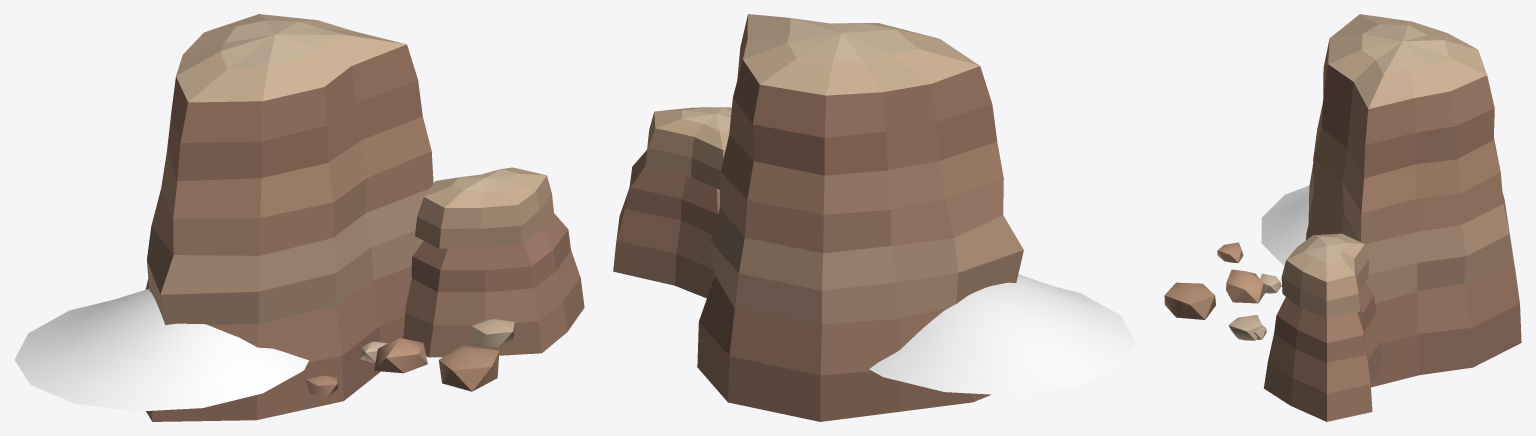
Rendered from roca_canon_c.glb.
3 renders of one model, left to right at view 1: azimuth 30°, elevation 25°; view 2: azimuth 150°, elevation 25°; view 3: azimuth 270°, elevation 25°, orthographic. The views are drawn at different scales.
Visible parts, largest first — view 1: roca_canon_c, roca_canon_c_arena; view 2: roca_canon_c, roca_canon_c_arena; view 3: roca_canon_c, roca_canon_c_arena.
Part boxes in pixels (box(x1,y1,x2,y2)): roca_canon_c: box(145, 14, 584, 421); roca_canon_c_arena: box(14, 289, 308, 411); roca_canon_c: box(613, 14, 1023, 421); roca_canon_c_arena: box(869, 274, 1135, 395); roca_canon_c: box(1164, 14, 1521, 421); roca_canon_c_arena: box(1261, 185, 1309, 266).
Size of the model in its own units: 6.2 by 3.66 by 4.19.
